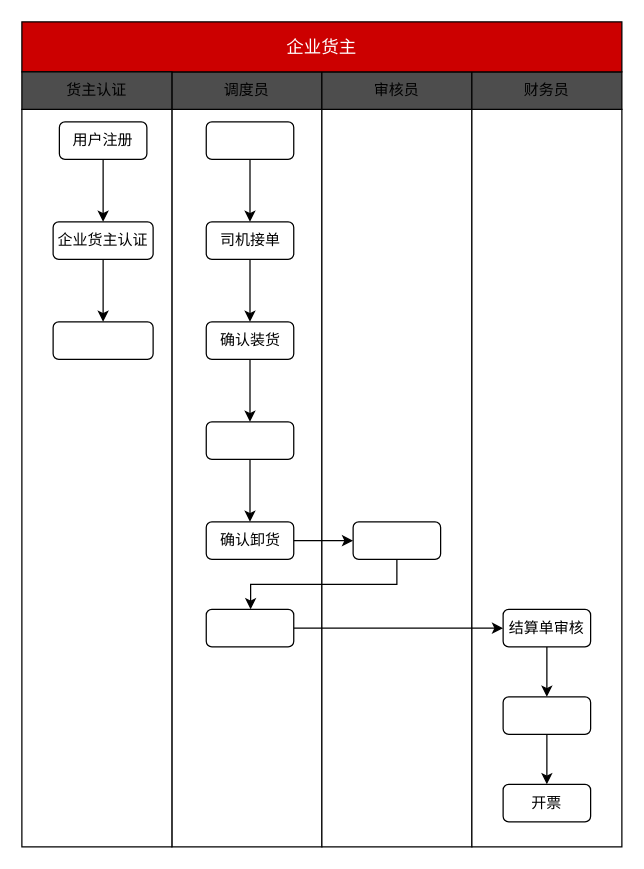
Image size: 644x869. Some labels were removed from this diagram. The shapes that lost their labels are listed below. From the top down, each one's centre as x and y in pixels, then its label:
At pixel 249 140: "发布货源".
At pixel 102 340: "分配角色".
At pixel 249 440: "运输轨迹".
At pixel 396 540: "回单审核".
At pixel 249 627: "信用评价".
At pixel 546 715: "支付运费".
